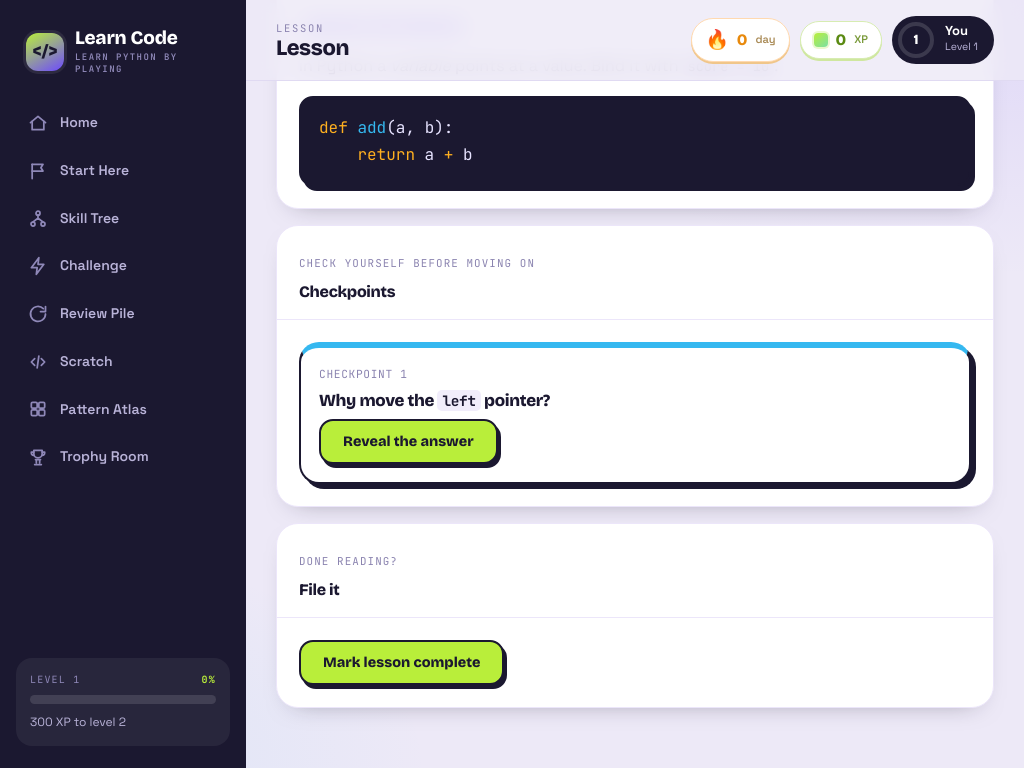
Test: LessonRoute › renders the lesson, reveals a checkpoint, and completes
The width and height of the screenshot is (1024, 768).
(page scrolled)
Expected: the text "To shrink the window." is not shown
Click the button "Reveal the answer": (408, 442) [319,419,498,464]
(page scrolled)
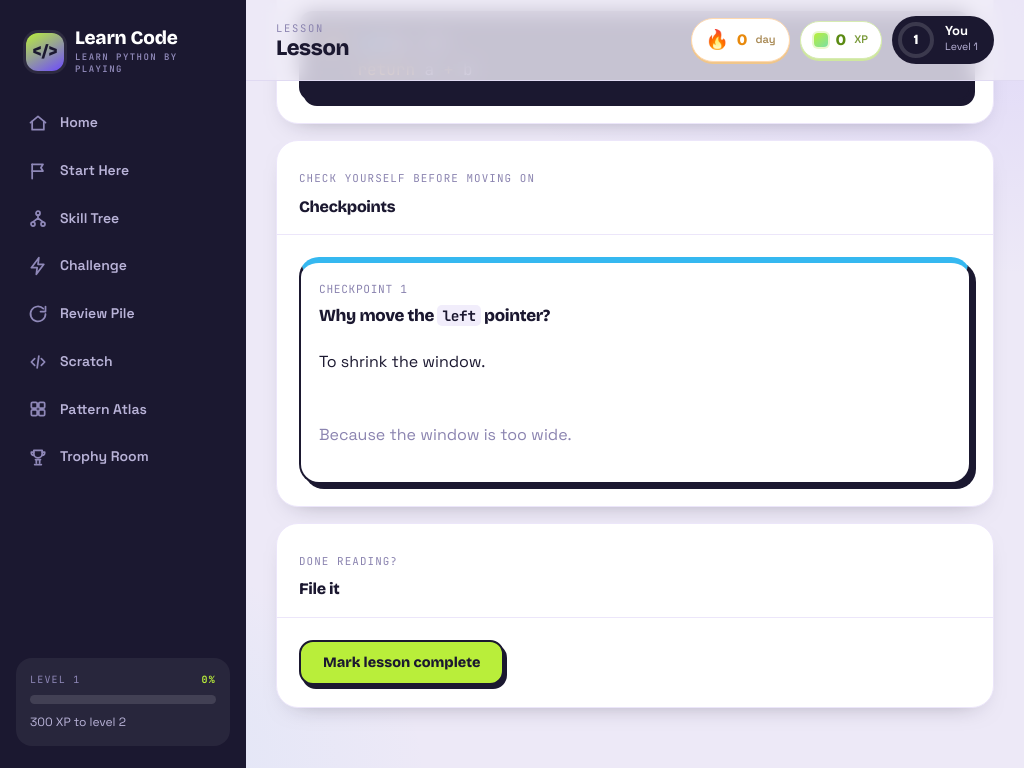
Expected: the text "To shrink the window." is shown, [319,351,485,372]
Click the button "Mark lesson complete": (402, 662) [299,640,504,685]
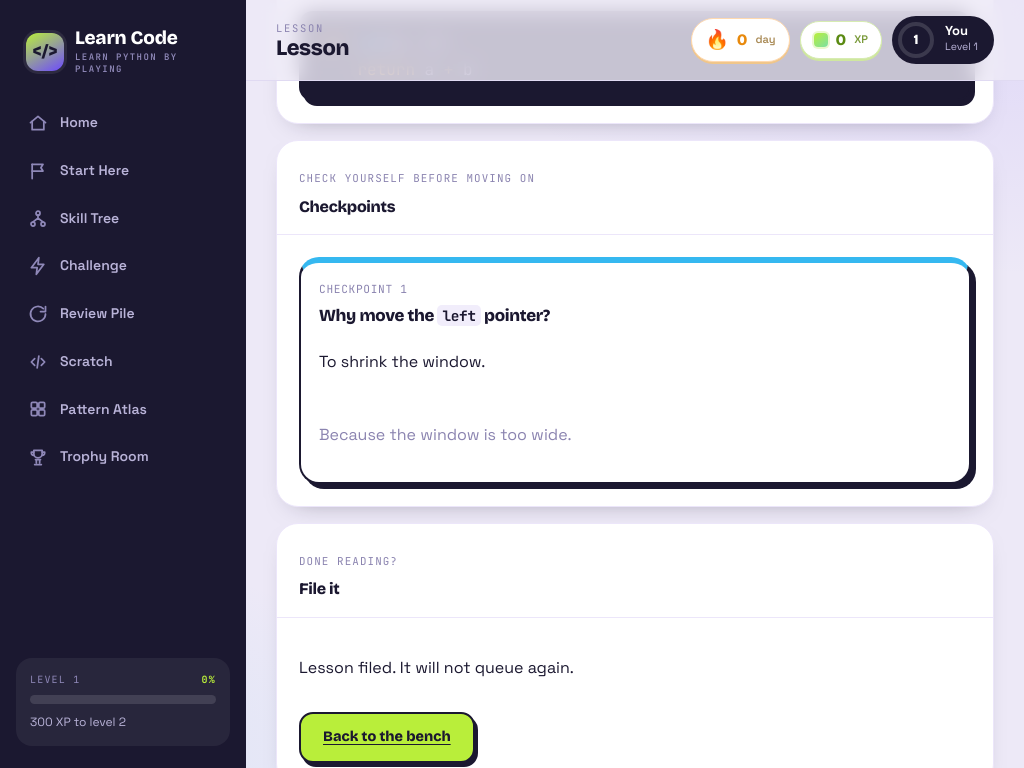
Expected: the text "Lesson filed. It will not queue again." is shown, [299,657,574,678]
